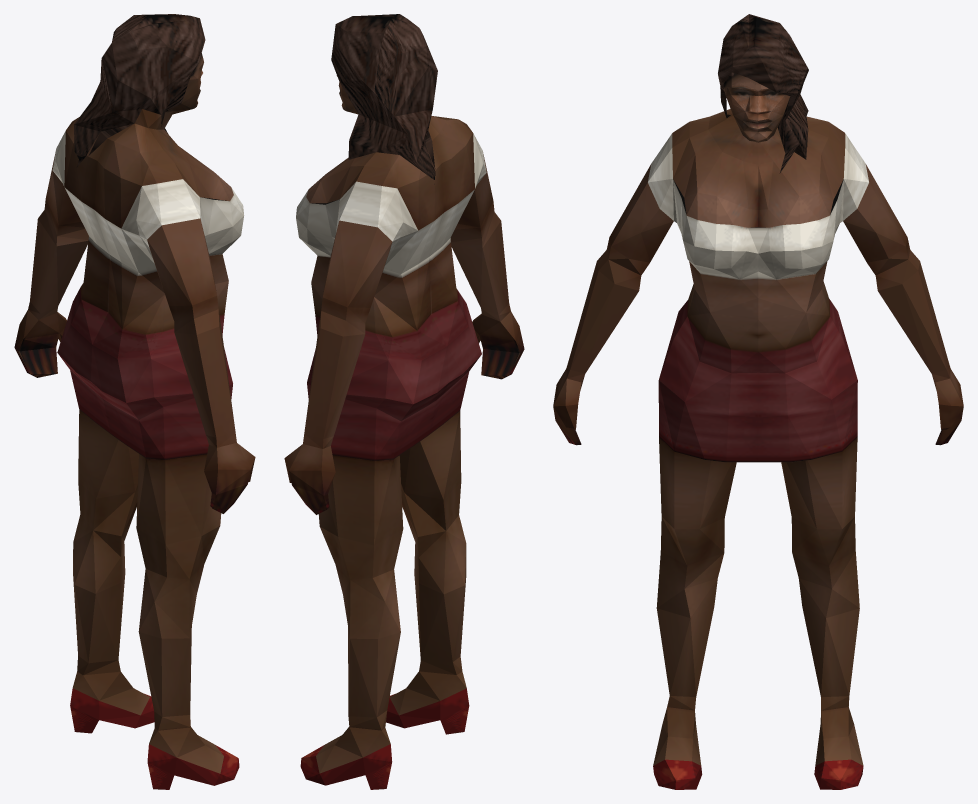
File: vbfypro.obj
The picture shows the model from 3 angles, left to right: view 1: azimuth 30°, elevation 25°; view 2: azimuth 150°, elevation 25°; view 3: azimuth 270°, elevation 25°; orthographic projection. The views are drawn at different scales.
Parts seen in each view (by area): view 1: _Pelvis; view 2: _Pelvis; view 3: _Pelvis.
Part boxes in pixels (x1=…): _Pelvis: x1=14, y1=14, x2=255, y2=789; _Pelvis: x1=284, y1=14, x2=524, y2=789; _Pelvis: x1=553, y1=14, x2=963, y2=789.
Bounding box in the file's own units: 0.3582 × 1.89 × 0.935.
1 material, 1 textured.
